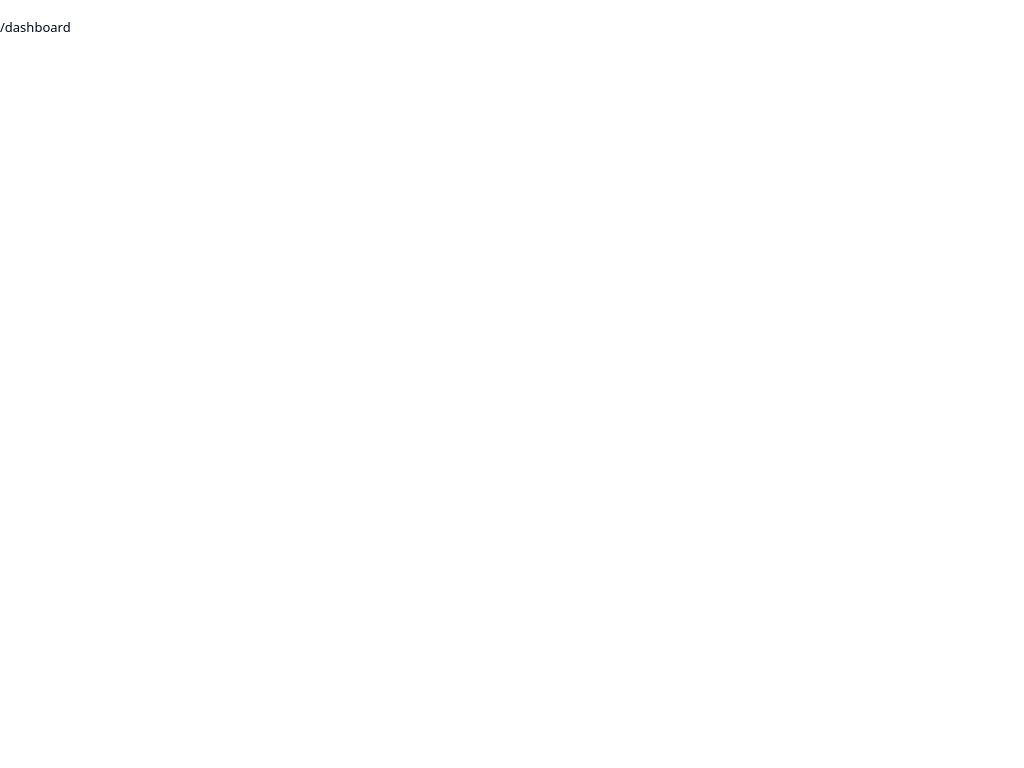
Test: CommandBar — Ctrl/⌘+K (#347 D10) › goes to a customer
This screenshot has width=1024, height=768.
Press k
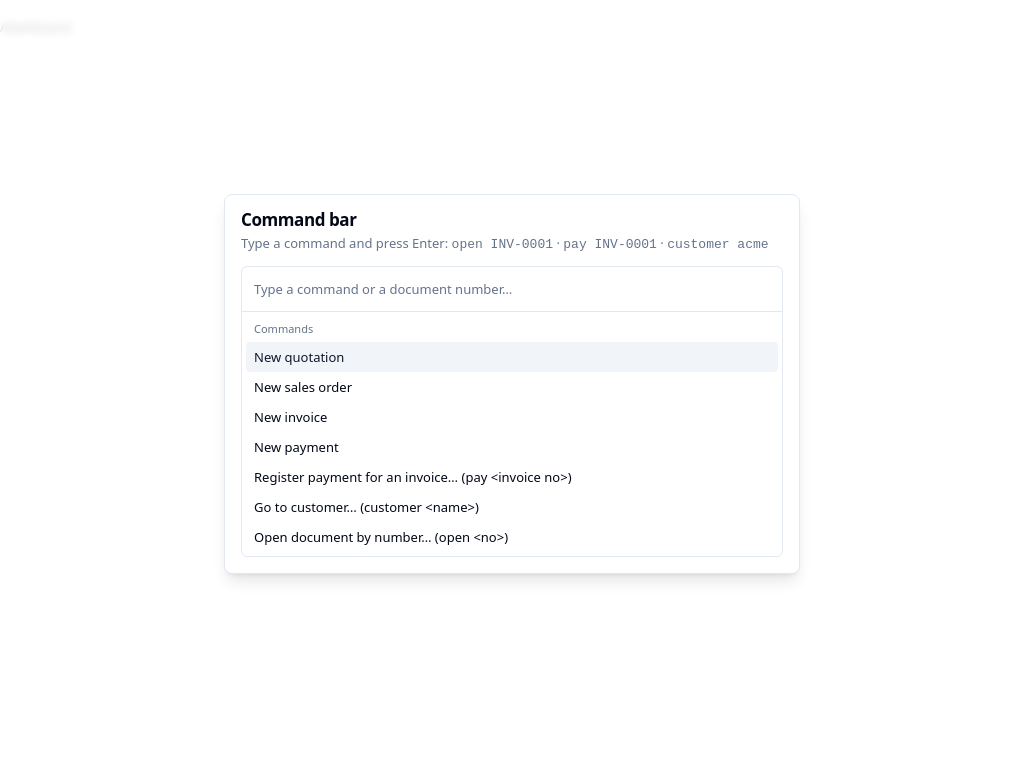
Type "customer klinik" into the dropdown with placeholder "Type a command or a document number…".
click(512, 289); type("customer klinik")  # box [254,267,770,311]
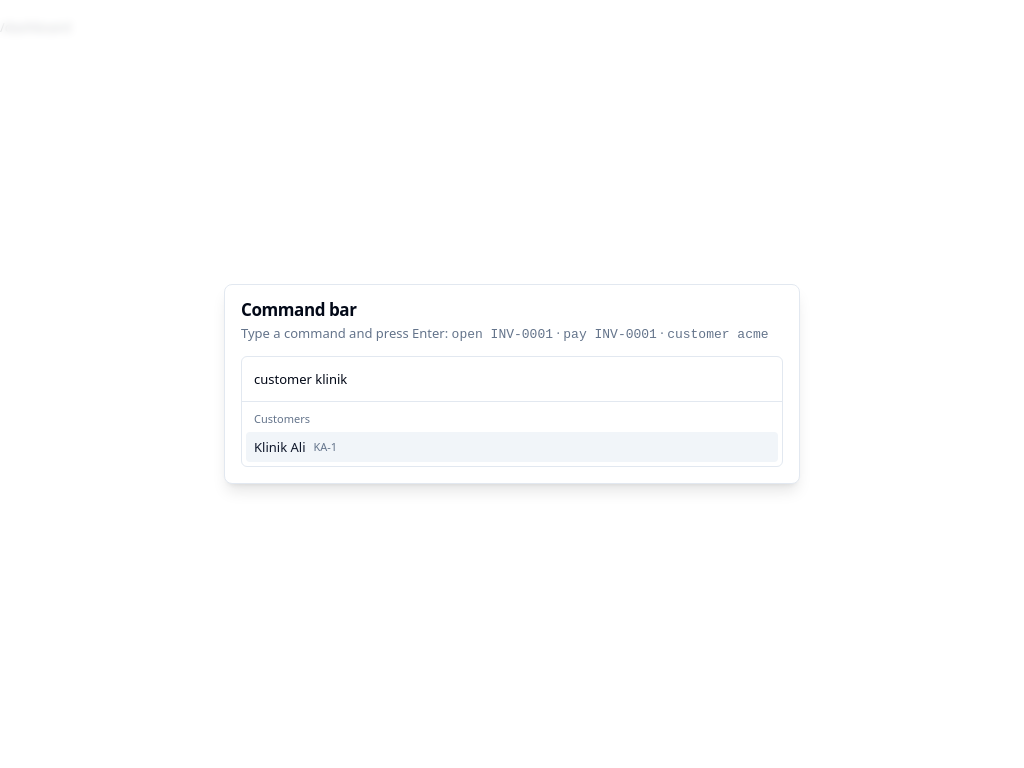
Click the text "Klinik Ali".
click(280, 447)  # box [254,438,306,456]
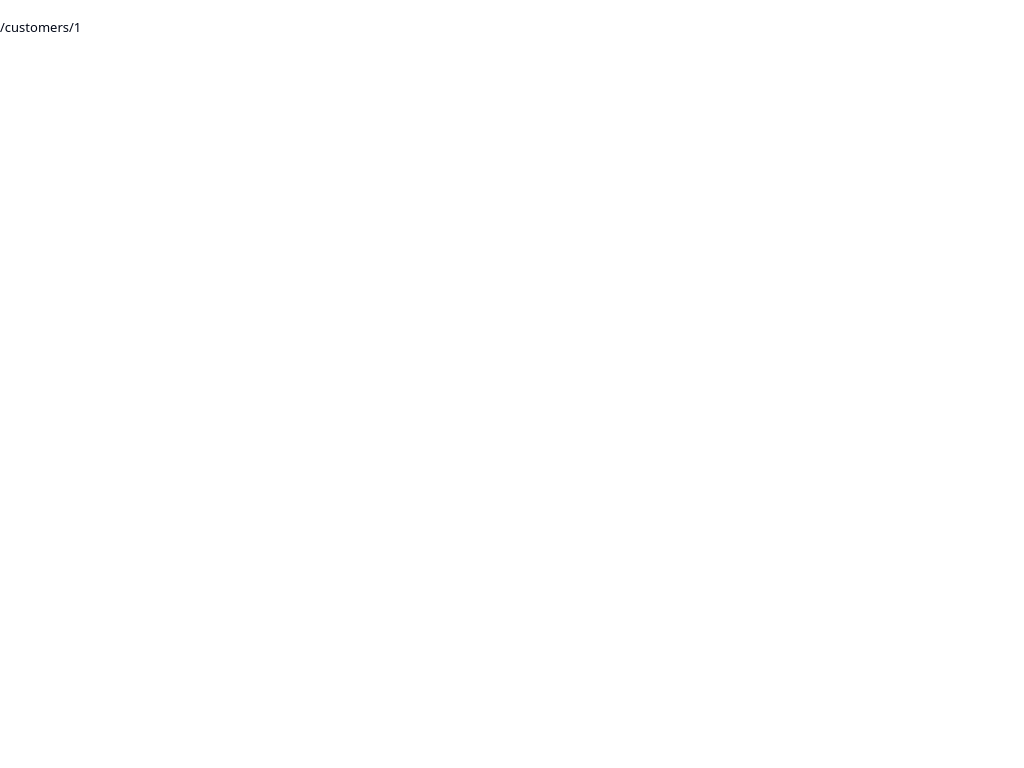
Check: the text with test id "location" reads "/customers/1", box [0,18,81,36]
